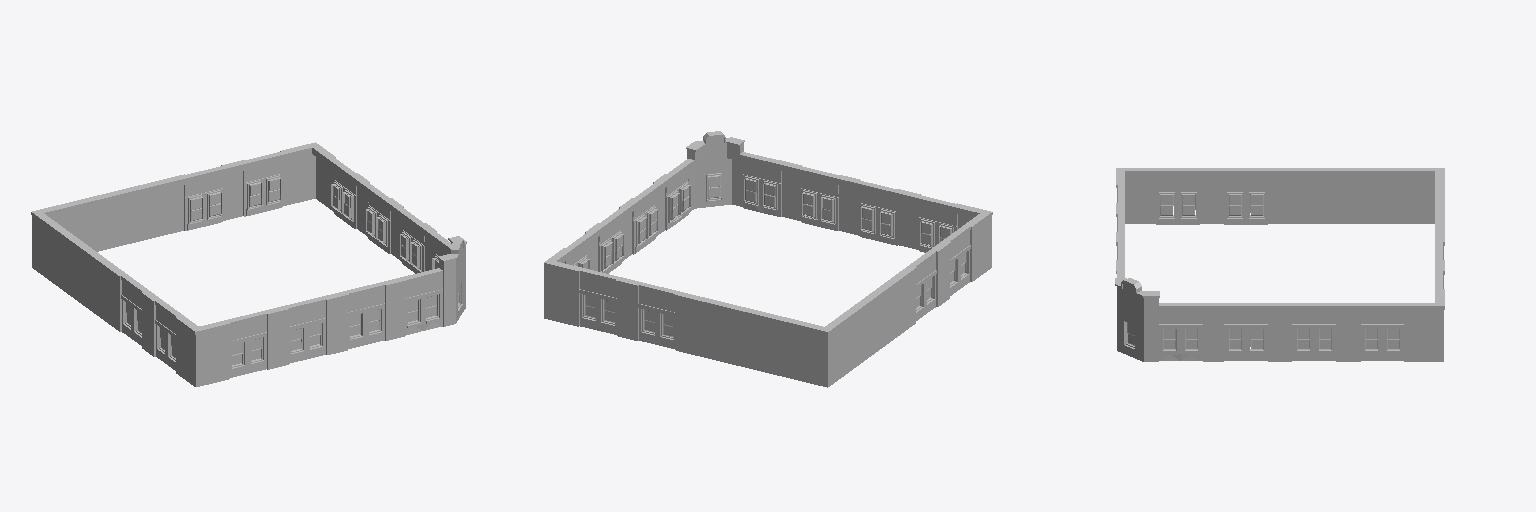
Rendered from Building_LevelModularShell_Top_LOD1.obj.
The picture shows the model from 3 angles: view 1: azimuth 30°, elevation 25°; view 2: azimuth 150°, elevation 25°; view 3: azimuth 270°, elevation 25°; orthographic projection.
Parts seen in each view (by area): view 1: Building_LevelModularShell_Top_LOD1 Building_LevelModularShell_T; view 2: Building_LevelModularShell_Top_LOD1 Building_LevelModularShell_T; view 3: Building_LevelModularShell_Top_LOD1 Building_LevelModularShell_T.
Part boxes in pixels (left/top/right/bottom): Building_LevelModularShell_Top_LOD1 Building_LevelModularShell_T: left=31, top=142, right=466, bottom=386; Building_LevelModularShell_Top_LOD1 Building_LevelModularShell_T: left=544, top=131, right=992, bottom=387; Building_LevelModularShell_Top_LOD1 Building_LevelModularShell_T: left=1115, top=168, right=1444, bottom=361.
Bounding box in the file's own units: 2414 × 601 × 2414.